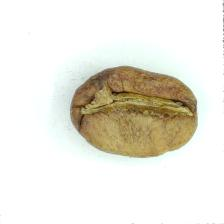NG: (84, 73, 193, 148)
